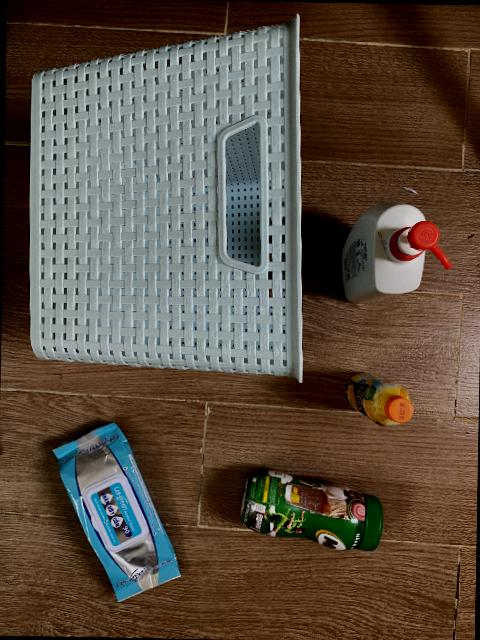Let-green_alcohol_wipes: (52, 420, 180, 601)
cart: (28, 12, 301, 383)
life-buoy: (340, 200, 450, 303)
milo: (238, 469, 382, 550)
teppy_orange_juice: (344, 371, 412, 425)
